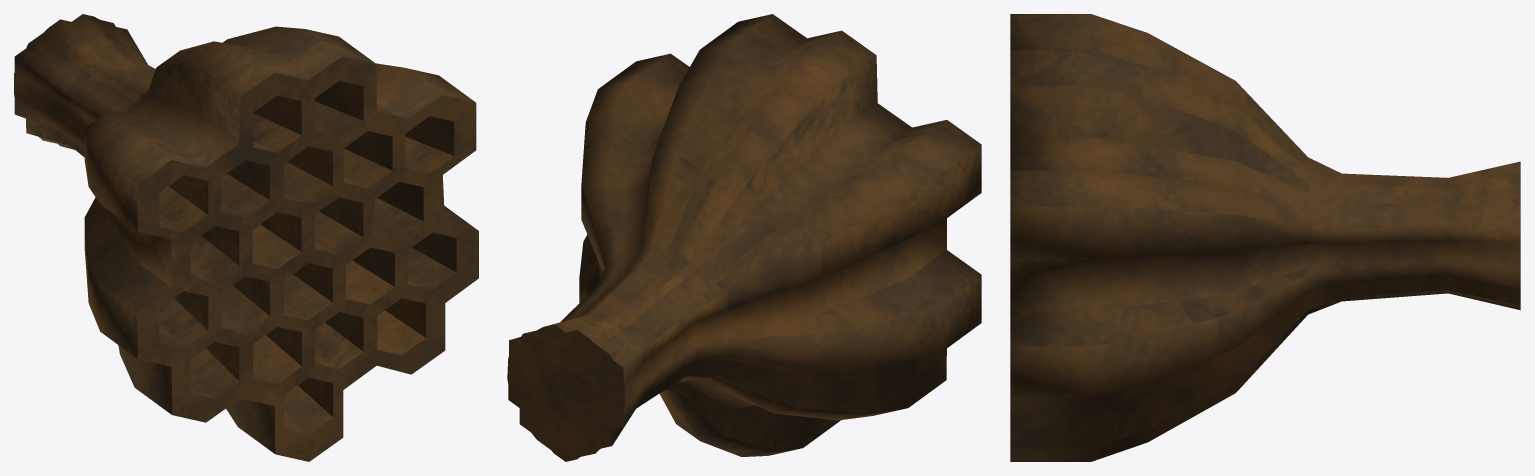
Rendered from honeycomb16.fbx.
3 renders of one model, left to right at view 1: azimuth 30°, elevation 25°; view 2: azimuth 150°, elevation 25°; view 3: azimuth 270°, elevation 25°, orthographic. The views are drawn at different scales.
Parts seen in each view (by area): view 1: Cube.000; view 2: Cube.000; view 3: Cube.000.
Boxes of the visible parts, x1=… form: Cube.000: x1=14, y1=14, x2=478, y2=461; Cube.000: x1=507, y1=14, x2=981, y2=461; Cube.000: x1=1010, y1=14, x2=1520, y2=461.
Bounding box in the file's own units: 828 × 923 × 996.
